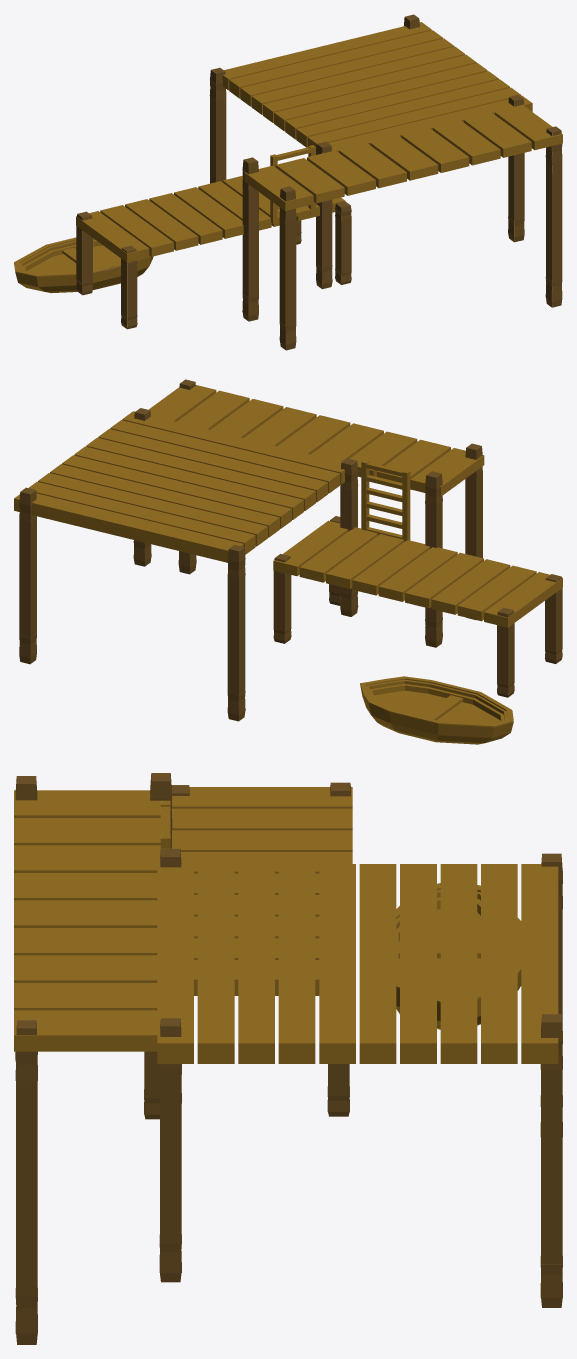
Rendered from Fishingdock.fbx.
3 renders of one model, top to bottom at view 1: azimuth 30°, elevation 25°; view 2: azimuth 150°, elevation 25°; view 3: azimuth 270°, elevation 25°, orthographic. The views are drawn at different scales.
Visible parts, largest first — view 1: Cube, Cube.002, Cube.013, Cube.007, Cube.004; view 2: Cube, Cube.007, Cube.002, Cube.013, Cube.004; view 3: Cube, Cube.013, Cube.002, Cube.007, Cube.004.
Boxes of the visible parts, left/top/right/bottom form: Cube: left=222, top=22, right=532, bottom=152; Cube.002: left=209, top=14, right=562, bottom=350; Cube.013: left=244, top=105, right=562, bottom=210; Cube.007: left=76, top=176, right=351, bottom=329; Cube.004: left=14, top=237, right=153, bottom=293; Cube: left=14, top=411, right=344, bottom=562; Cube.007: left=273, top=516, right=562, bottom=697; Cube.002: left=19, top=379, right=482, bottom=721; Cube.013: left=148, top=385, right=484, bottom=496; Cube.004: left=360, top=676, right=513, bottom=744; Cube: left=157, top=864, right=558, bottom=1063; Cube.013: left=14, top=790, right=160, bottom=1051; Cube.002: left=15, top=773, right=562, bottom=1344; Cube.007: left=144, top=782, right=352, bottom=1119; Cube.004: left=396, top=883, right=521, bottom=1029.
Size of the model in its own units: 2573 by 1027 by 1554.
